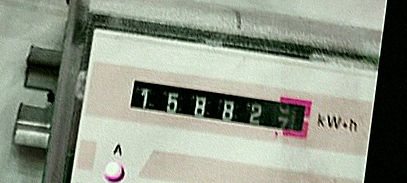1: (137, 83, 154, 107)
2: (247, 99, 266, 125)
5: (164, 87, 182, 113)
7: (276, 110, 290, 128)
8: (220, 96, 237, 122), (192, 92, 208, 117)
screen: (120, 68, 322, 147)
